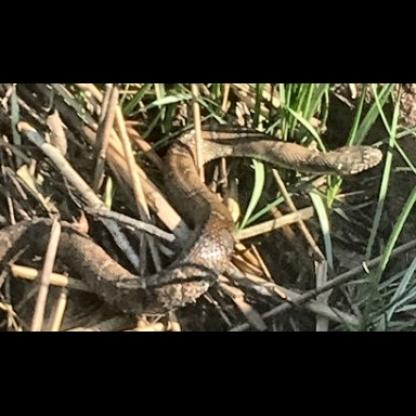Snake: (7, 123, 381, 316)
